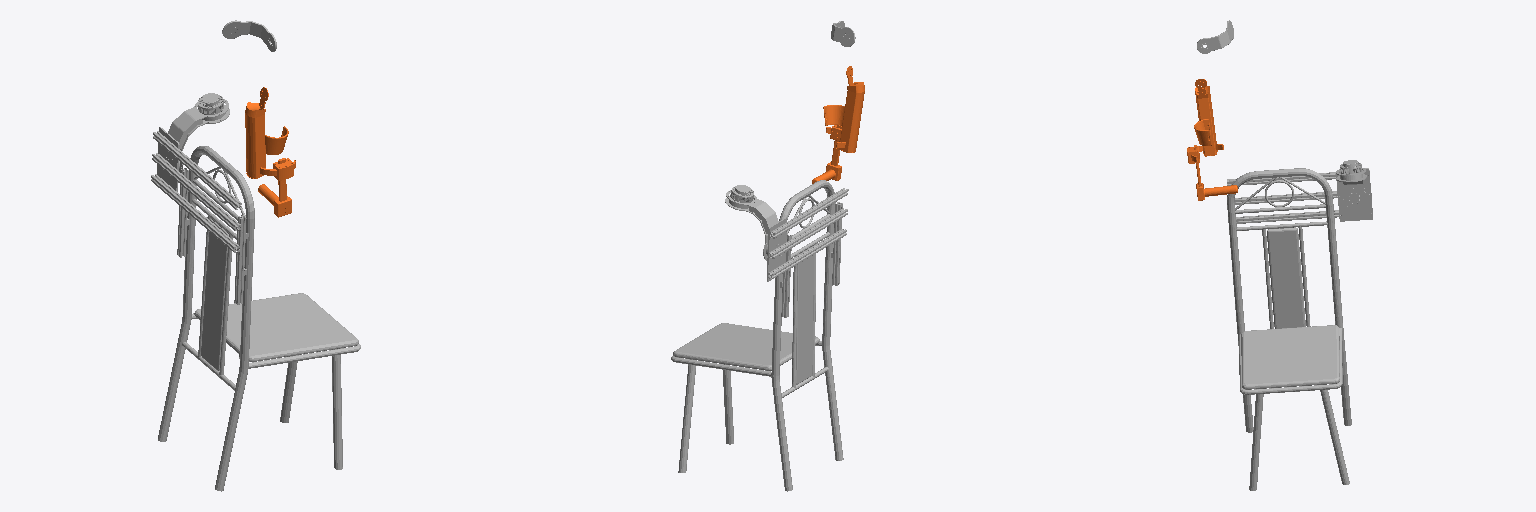
robot.urdf — gim_arm:
<robot name="gim_arm"><link name="base_footprint" /><link name="world" /><joint name="world_fixed" type="fixed"><parent link="world" /><child link="base_footprint" /><origin rpy="0 0 0" xyz="0 0 0" /></joint><joint name="base_footprint_to_base_link" type="fixed"><parent link="base_footprint" /><child link="base_link" /><origin rpy="0.073 0 0" xyz="0 0 0" /></joint><link name="base_link"><inertial><origin rpy="0 0 0" xyz="0.269439843183932 -0.510305429832032 0.28864640978465" /><mass value="6.78071383810195" /><inertia ixx="0.292982115231117" ixy="-1.48741255187693E-05" ixz="2.42892432158613E-05" iyy="0.315548948805223" iyz="0.0223532567301581" izz="0.157616658426692" /></inertial><visual><origin rpy="0 0 0" xyz="0 0 0" /><geometry><mesh filename="package://gim_arm_description/meshes/base_link.STL" /></geometry><material name="base_link_color"><color rgba="0.752941176470588 0.752941176470588 0.752941176470588 1" /></material></visual><collision><origin rpy="0 0 0" xyz="0 0 0" /><geometry><mesh filename="package://gim_arm_description/meshes/base_link.STL" /></geometry></collision></link><link name="shoulder_link"><inertial><origin rpy="0 0 0" xyz="-0.12963 0.0049354 -0.047727" /><mass value="0.078544" /><inertia ixx="0.00012022" ixy="8.4806E-07" ixz="7.3469E-05" iyy="0.00018895" iyz="-7.8739E-07" izz="0.00010379" /></inertial><visual><origin rpy="0 0 0" xyz="0 0 0" /><geometry><mesh filename="package://gim_arm_description/meshes/shoulder_link.STL" /></geometry><material name="shoulder_link_color"><color rgba="0.752941176470588 0.752941176470588 0.752941176470588 1" /></material></visual><collision><origin rpy="0 0 0" xyz="0 0 0" /><geometry><mesh filename="package://gim_arm_description/meshes/shoulder_link.STL" /></geometry></collision></link><joint name="base_joint" type="revolute"><origin rpy="1.4637 1.364 1.4753" xyz="0.031381 -0.48621 0.64846" /><parent link="base_link" /><child link="shoulder_link" /><axis xyz="0.99932 -0.031099 -0.019999" /><limit effort="5" lower="-0.7121" upper="1.0226" velocity="15.708" /></joint><link name="upper_arm_link"><inertial><origin rpy="0 0 0" xyz="-0.022717 0.105 -0.10081" /><mass value="1.2678" /><inertia ixx="0.0046939" ixy="-0.00010628" ixz="-0.00025724" iyy="0.0053714" iyz="-0.00041298" izz="0.0011133" /></inertial><visual><origin rpy="0 0 0" xyz="0 0 0" /><geometry><mesh filename="package://gim_arm_description/meshes/upper_arm_link.STL" /></geometry><material name="upper_arm_link_color"><color rgba="0.545098039215686 0 0.870588235294118 1" /></material></visual><collision><origin rpy="0 0 0" xyz="0 0 0" /><geometry><mesh filename="package://gim_arm_description/meshes/upper_arm_link.STL" /></geometry></collision></link><joint name="shoulder_joint" type="revolute"><origin rpy="-1.376255 0.017904 1.358142" xyz="-0.049966 0.001555 0.00099995" /><parent link="shoulder_link" /><child link="upper_arm_link" /><axis xyz="0 -1 0" /><limit effort="40" lower="-0.2366" upper="1.3435" velocity="1.963" /></joint><link name="lower_arm_link"><inertial><origin rpy="0 0 0" xyz="0.20796 0.011597 0.034173" /><mass value="0.73459" /><inertia ixx="0.00058901" ixy="2.0268E-05" ixz="0.000249" iyy="0.0015799" iyz="8.7918E-06" izz="0.0017158" /></inertial><visual><origin rpy="0 0 0" xyz="0 0 0" /><geometry><mesh filename="package://gim_arm_description/meshes/lower_arm_link.STL" /></geometry><material name="lower_arm_link_color"><color rgba="1 0.509803921568627 0.196078431372549 1" /></material></visual><collision><origin rpy="0 0 0" xyz="0 0 0" /><geometry><mesh filename="package://gim_arm_description/meshes/lower_arm_link.STL" /></geometry></collision></link><joint name="elbow_joint" type="revolute"><origin rpy="-1.570821 1.51637 -0.000021" xyz="-0.014232 0 -0.21358" /><parent link="upper_arm_link" /><child link="lower_arm_link" /><axis xyz="0 0 -1" /><limit effort="5" lower="-0.2336" upper="1.7762" velocity="15.708" /></joint><ros2_control name="GimArmSystem" type="system"><hardware><plugin>gim_arm_hardware/GimArmSystemHardware</plugin><param name="can_interface">can0</param><param name="velocity_feedforward">true</param><param name="torque_handoff_duration_s">1.0</param><param name="gravity_feedforward">false</param><param name="effort_stale_cycles">50</param><param name="set_zero_on_startup">true</param><param name="zero_method">software</param></hardware><joint name="base_joint"><command_interface name="position" /><command_interface name="velocity" /><command_interface name="effort" /><state_interface name="position" /><state_interface name="velocity" /><param name="can_node_id">0</param><param name="invert_direction">true</param><param name="torque_sign">-1</param><param name="torque_gear_ratio">1.0</param><param name="max_torque_joint_nm">5.0</param><param name="torque_mode_enable">false</param></joint><joint name="shoulder_joint"><command_interface name="position" /><command_interface name="velocity" /><command_interface name="effort" /><state_interface name="position" /><state_interface name="velocity" /><param name="can_node_id">1</param><param name="gear_ratio">64.0</param><param name="torque_sign">1</param><param name="torque_gear_ratio">8.0</param><param name="max_torque_joint_nm">40.0</param><param name="torque_mode_enable">false</param></joint><joint name="elbow_joint"><command_interface name="position" /><command_interface name="velocity" /><command_interface name="effort" /><state_interface name="position" /><state_interface name="velocity" /><param name="can_node_id">2</param><param name="invert_direction">true</param><param name="torque_sign">-1</param><param name="torque_gear_ratio">1.0</param><param name="max_torque_joint_nm">5.0</param><param name="torque_mode_enable">true</param></joint></ros2_control></robot>

--- Facts derived from the render (not from the file) ---
The picture shows the robot from 3 angles, left to right: view 1: azimuth 30°, elevation 25°; view 2: azimuth 150°, elevation 25°; view 3: azimuth 270°, elevation 25°; orthographic projection.
Robot: gim_arm — 6 links, 5 joints (3 revolute, 2 fixed); root link world; default pose: every joint at zero.
Links seen in each view (by area): view 1: base_link, lower_arm_link, shoulder_link; view 2: base_link, lower_arm_link; view 3: base_link, lower_arm_link, shoulder_link.
Boxes of the visible links, <box> form: base_link: <box>151,93,360,491</box>; lower_arm_link: <box>245,87,295,217</box>; shoulder_link: <box>222,20,276,51</box>; base_link: <box>671,180,848,491</box>; lower_arm_link: <box>812,66,864,183</box>; base_link: <box>1227,160,1372,490</box>; lower_arm_link: <box>1187,79,1237,200</box>; shoulder_link: <box>1197,20,1233,53</box>.
Size in the robot's own frame: 0.5177 by 0.6639 by 1.64 metres.
Meshes: 4 distinct files referenced, 3 mesh visuals loaded (3 binary STL); not drawn: 1 (file found but could not be loaded).
